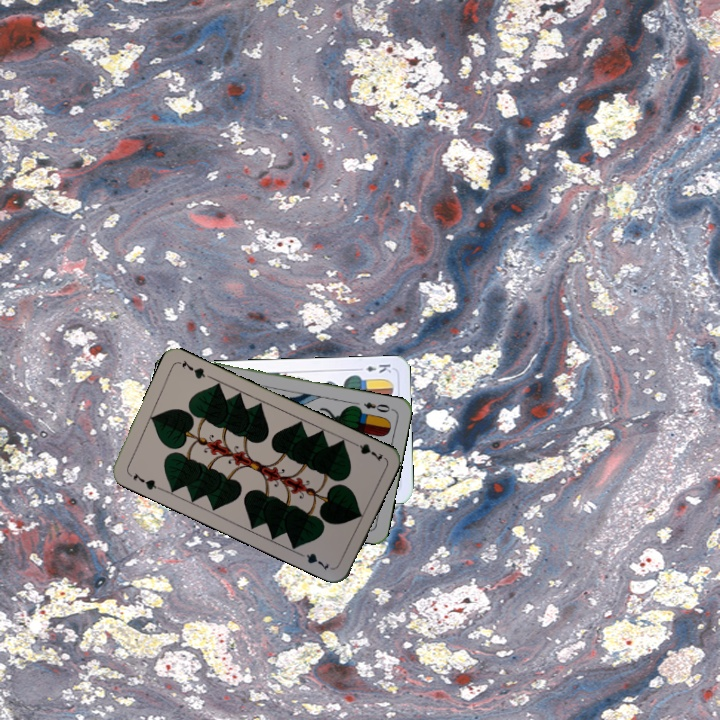EK: (353, 360, 394, 376)
EO: (360, 398, 396, 415)
G7: (347, 438, 385, 464), (124, 468, 163, 493)
